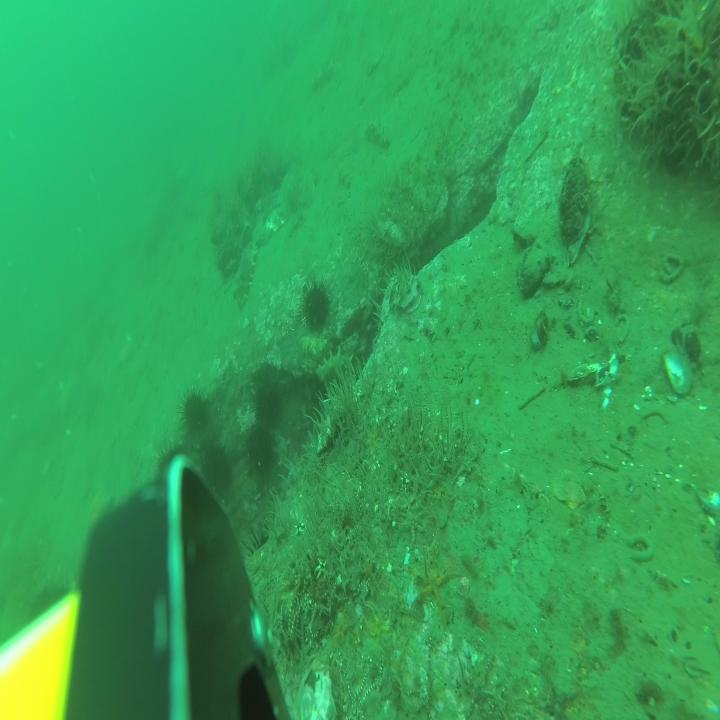echinus: (245, 519, 281, 587), (34, 582, 68, 634), (248, 425, 278, 483), (301, 276, 331, 333), (180, 386, 209, 441), (255, 382, 283, 436), (158, 444, 187, 496), (203, 444, 231, 492)
holothurian: (317, 346, 358, 390), (236, 242, 257, 310), (364, 120, 391, 152), (316, 64, 334, 90), (338, 169, 355, 192)
scallop: (554, 468, 586, 513), (266, 207, 286, 235), (366, 43, 383, 75)
starfish: (420, 557, 458, 608), (365, 606, 391, 648), (334, 619, 353, 643)
